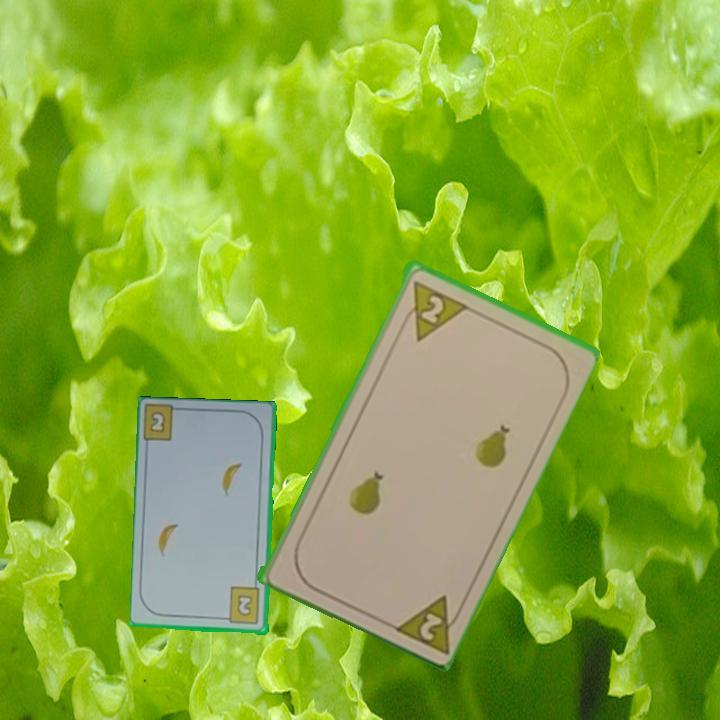2b: (220, 584, 263, 627), (147, 408, 168, 436)
2p: (387, 590, 467, 656), (397, 276, 468, 344)
